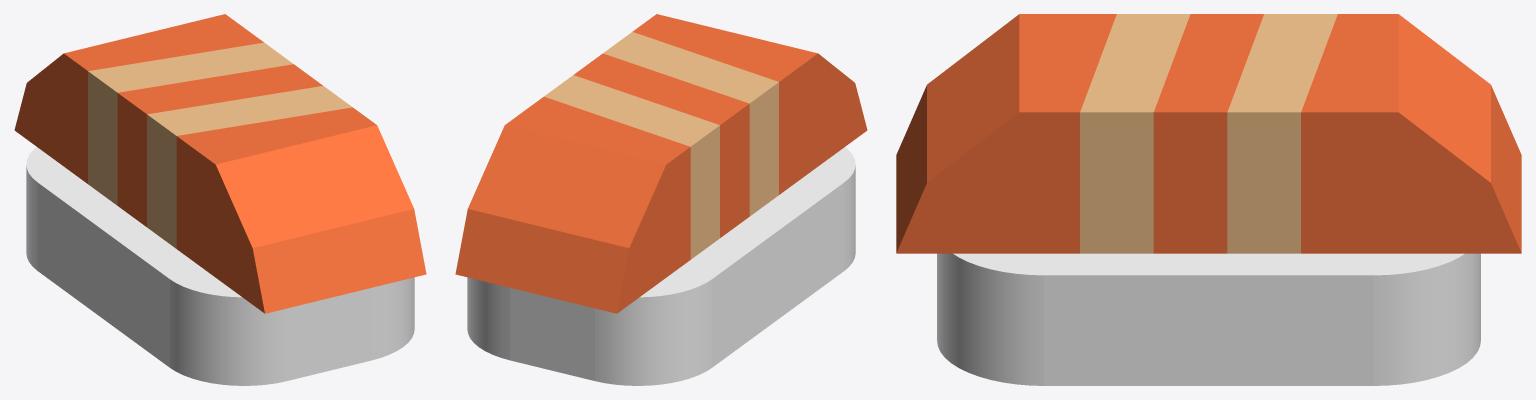
The model's file is sushiSalmon.obj.
3 views of the same model, side by side, from view 1: azimuth 30°, elevation 25°; view 2: azimuth 150°, elevation 25°; view 3: azimuth 270°, elevation 25° (orthographic). The views are drawn at different scales.
Visible parts, largest first — view 1: salmon, sushiSalmon; view 2: salmon, sushiSalmon; view 3: salmon, sushiSalmon.
Part boxes in pixels (left/top/right/bottom): salmon: left=14, top=14, right=426, bottom=313; sushiSalmon: left=26, top=147, right=414, bottom=385; salmon: left=455, top=14, right=867, bottom=313; sushiSalmon: left=467, top=147, right=855, bottom=385; salmon: left=896, top=14, right=1521, bottom=253; sushiSalmon: left=937, top=253, right=1480, bottom=385.
Size of the model in its own units: 0.1079 by 0.0892 by 0.2008.
